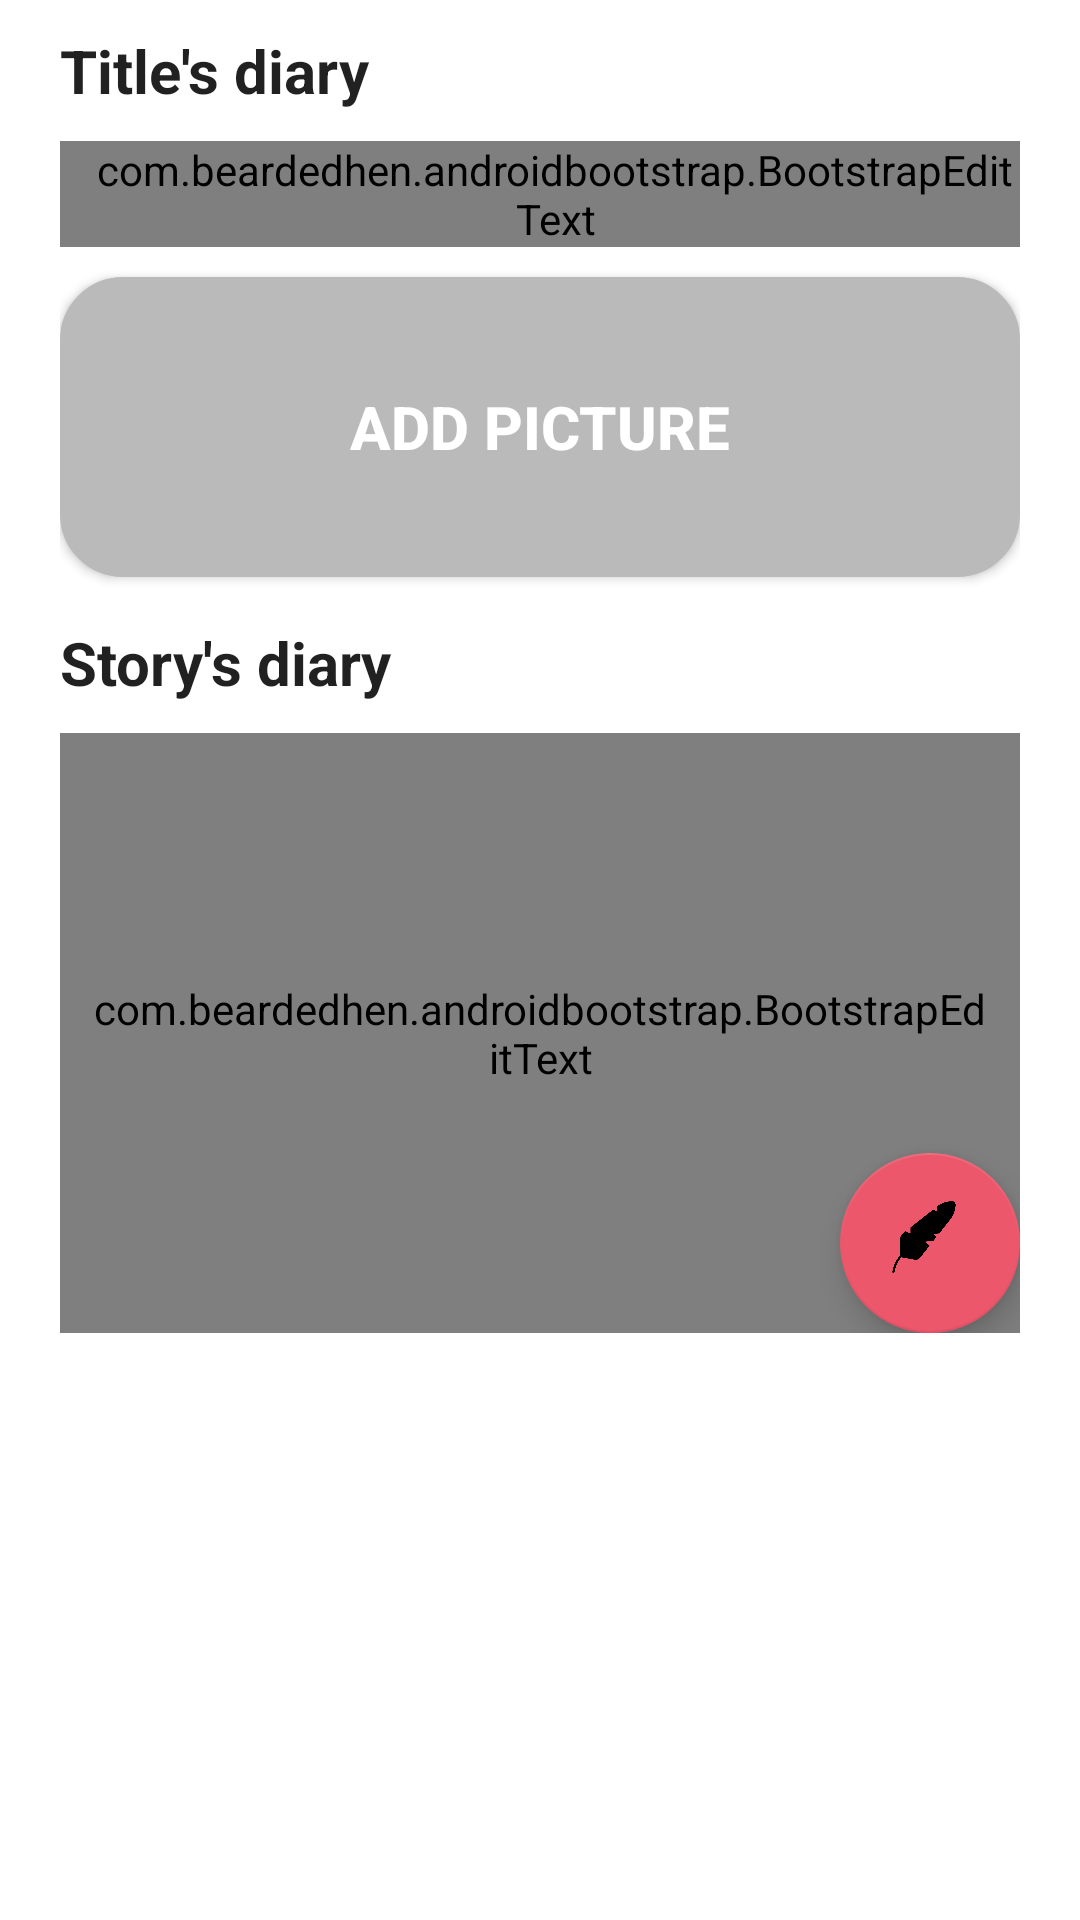

Screen size 1080w x 1920h. Icon name, then its center in pixels as (x=x, y=y):
feather: (x=930, y=1243)
